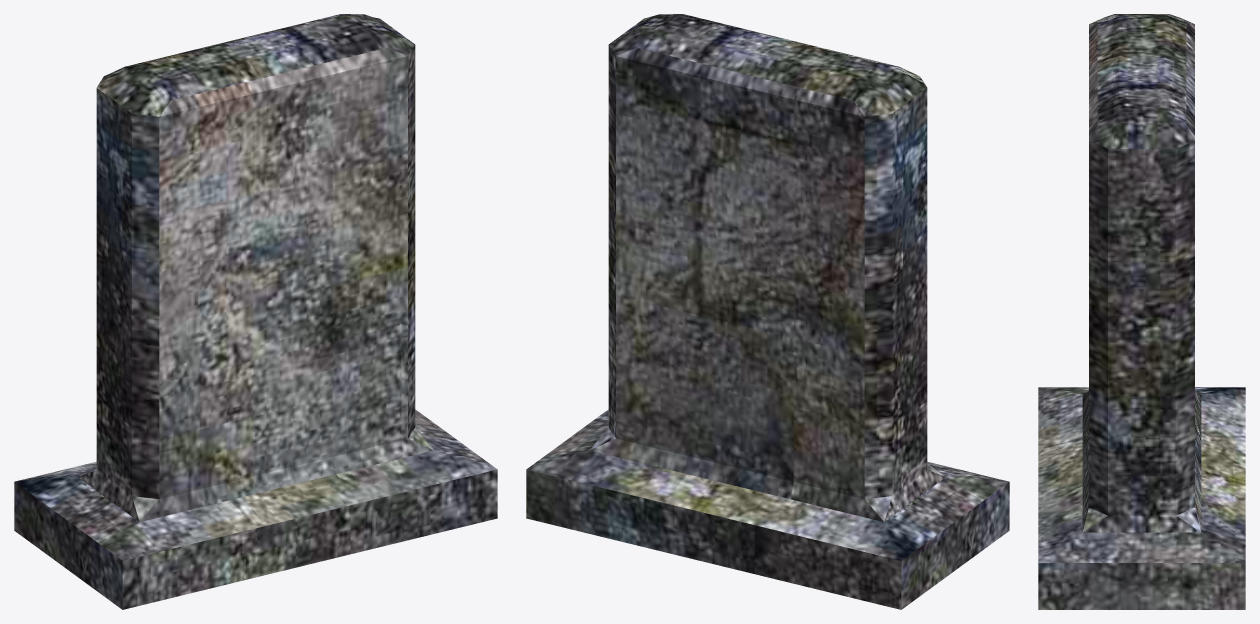
The model's file is largegravestone.DAE.
The picture shows the model from 3 angles, left to right: view 1: azimuth 30°, elevation 25°; view 2: azimuth 150°, elevation 25°; view 3: azimuth 270°, elevation 25°; orthographic projection. The views are drawn at different scales.
Parts seen in each view (by area): view 1: geom-box; view 2: geom-box; view 3: geom-box.
Part boxes in pixels (x1,y1,x2,y2): geom-box: (14, 14, 497, 609); geom-box: (526, 14, 1009, 609); geom-box: (1038, 14, 1245, 609).
Bounding box in the file's own units: 40 × 48.52 × 20.
